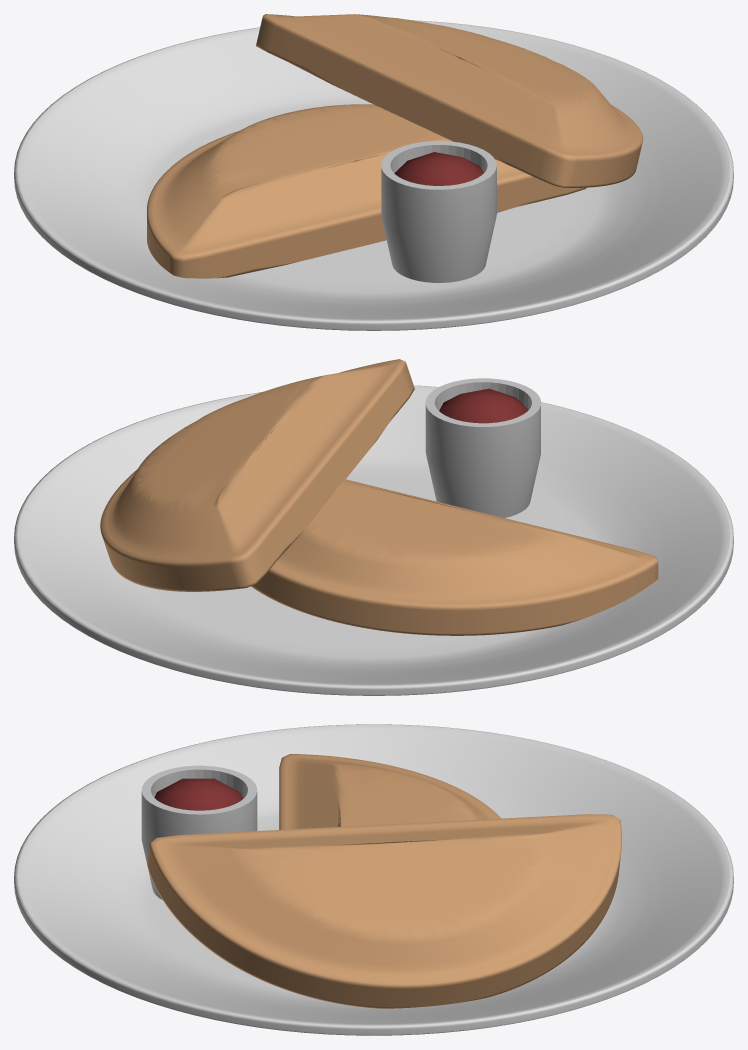
Rendered from Calzone_225.gltf.
3 views of the same model, one above another, from view 1: azimuth 30°, elevation 25°; view 2: azimuth 150°, elevation 25°; view 3: azimuth 270°, elevation 25° (orthographic).
Visible parts, largest first — view 1: node-0; view 2: node-0; view 3: node-0.
Boxes of the visible parts, x1,y1,x2,y2 form: node-0: (14,14,733,330); node-0: (14,359,733,695); node-0: (14,724,733,1035).
Size of the model in its own units: 78.99 by 14.47 by 78.99.
